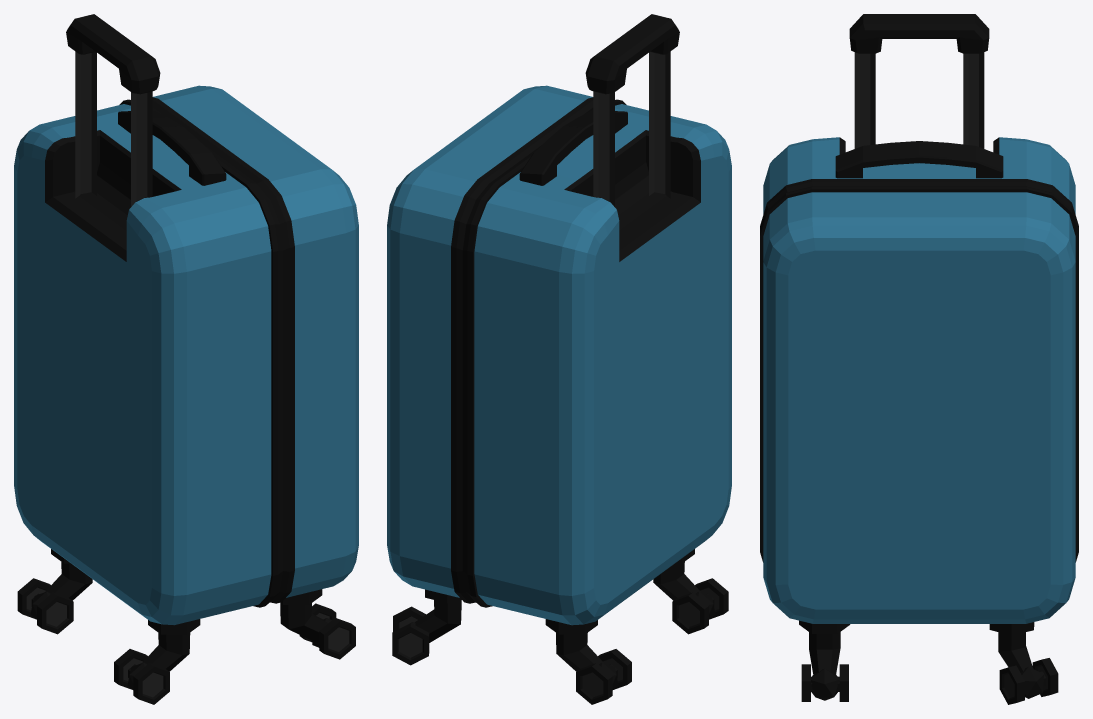
The model's file is Maleta.fbx.
3 renders of one model, left to right at view 1: azimuth 30°, elevation 25°; view 2: azimuth 150°, elevation 25°; view 3: azimuth 270°, elevation 25°, orthographic. The views are drawn at different scales.
Visible parts, largest first — view 1: Suitcase; view 2: Suitcase; view 3: Suitcase.
Boxes of the visible parts, bbox=[...] form: Suitcase: bbox=[14, 14, 358, 704]; Suitcase: bbox=[387, 14, 731, 704]; Suitcase: bbox=[760, 14, 1078, 704].
Bounding box in the file's own units: 20.38 × 53.52 × 25.61.
